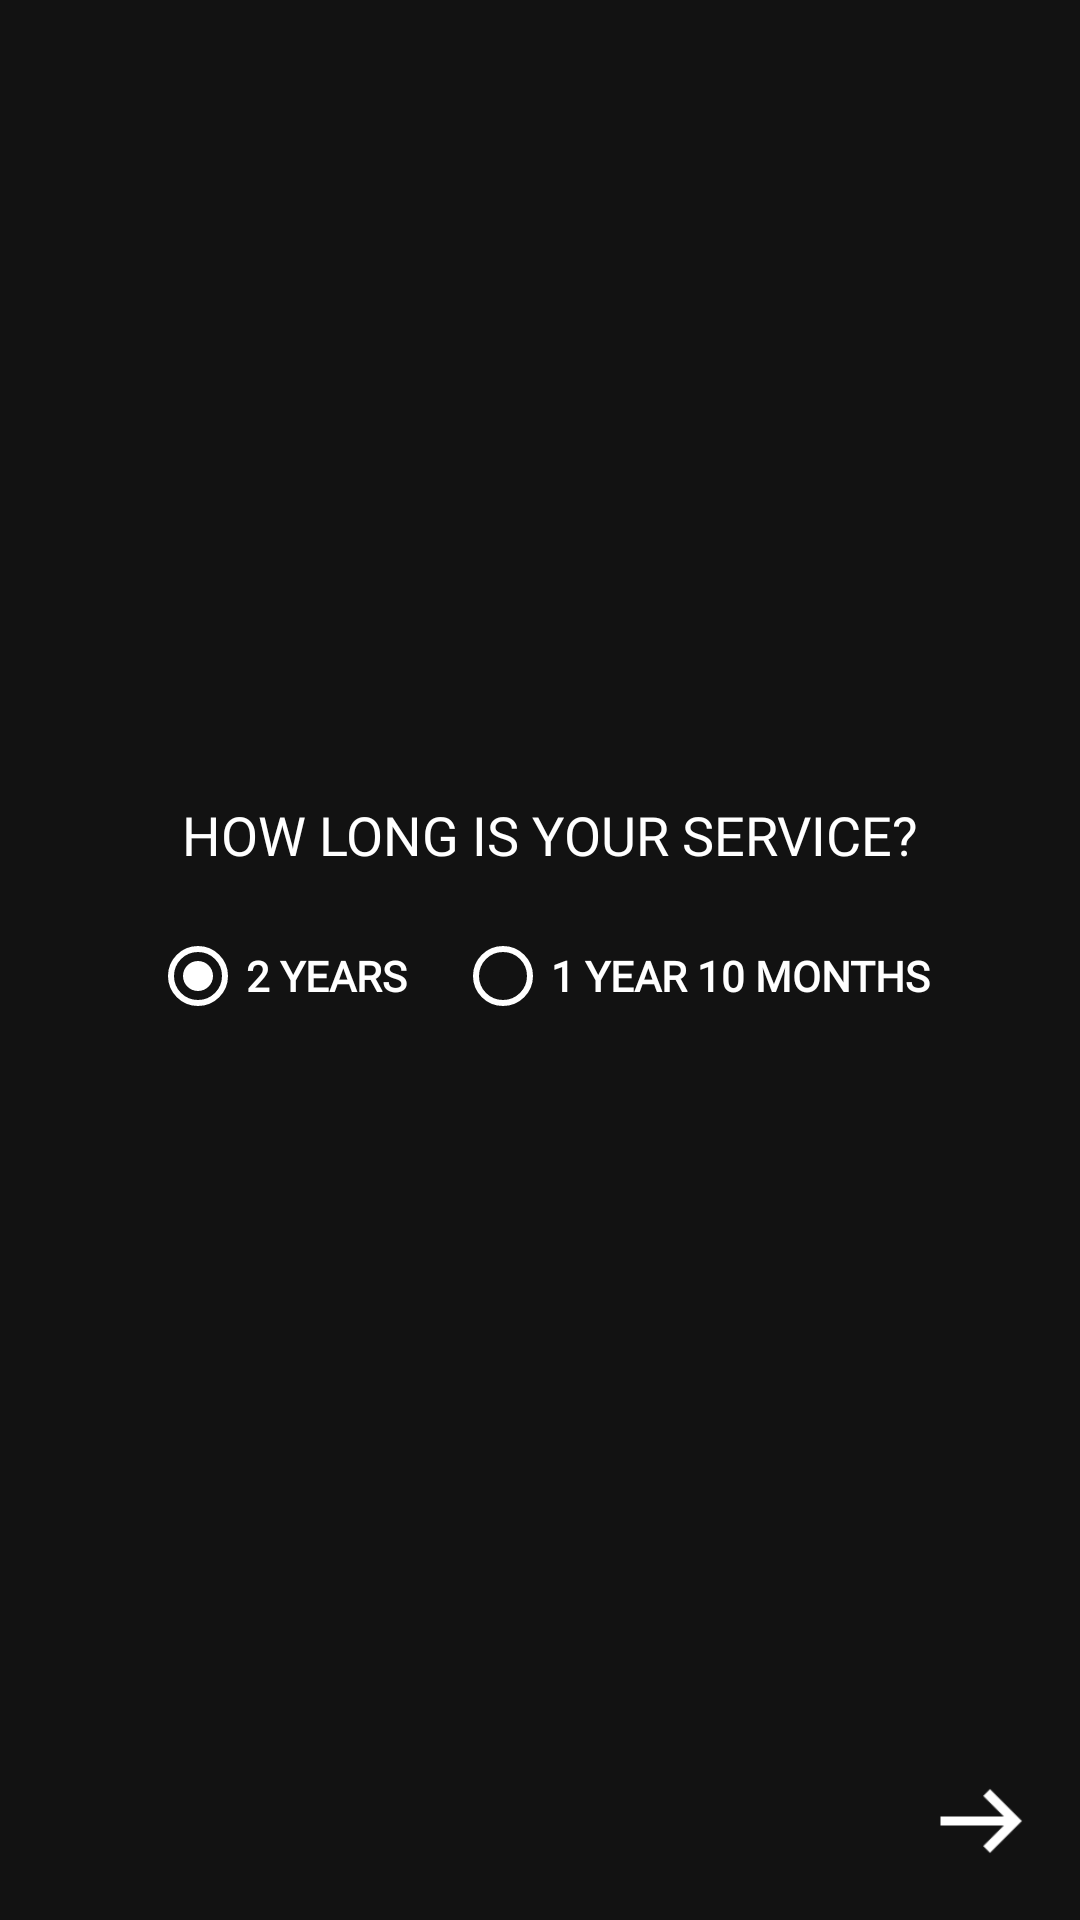

Icon click points for this 1080w x 1920h phone screenshot, format [x,y]:
arrowrightwhite: [981,1821]
